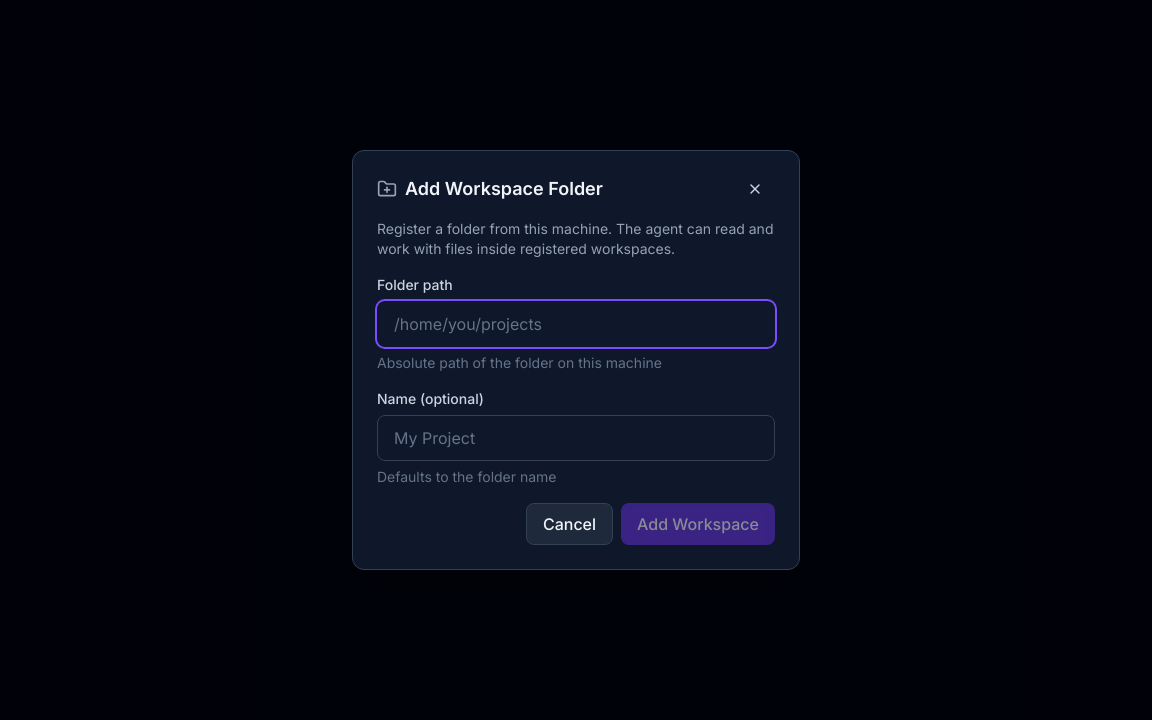
Test: WorkspaceDialog › shows backend validation errors
In the field with placeholder "/home/you/projects": (576, 324) x1=377 y1=301 x2=775 y2=347, type "/nope"
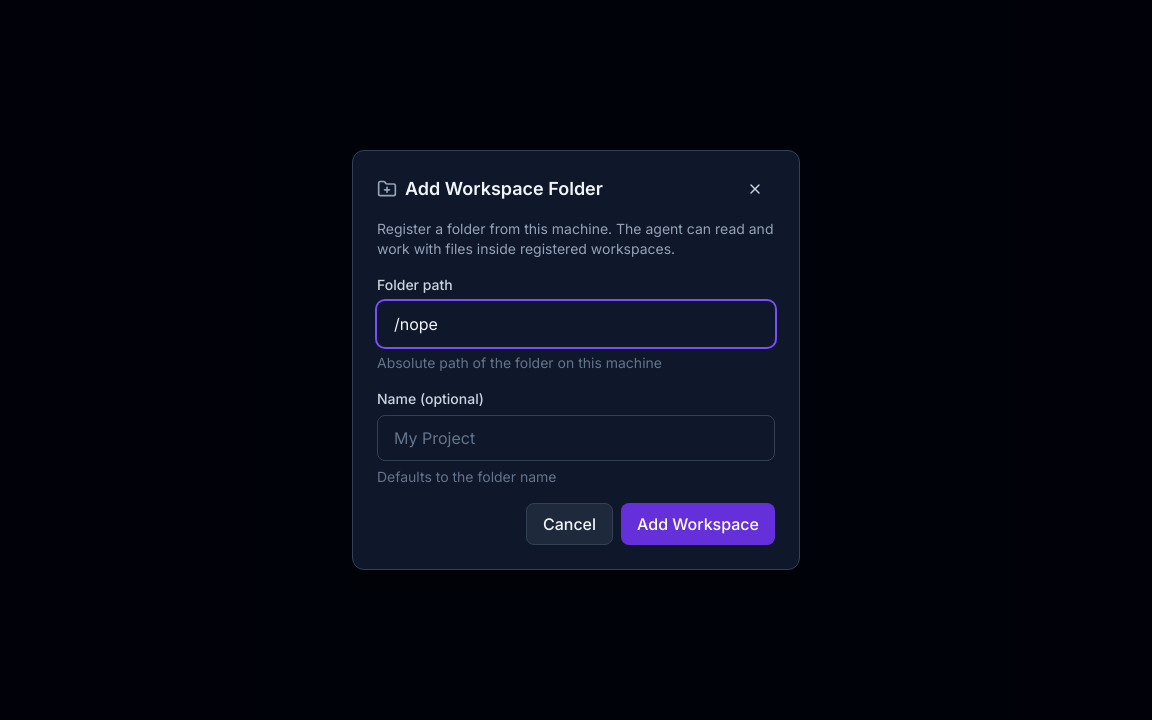
Click the button "Add Workspace": (698, 524) x1=621 y1=503 x2=775 y2=545
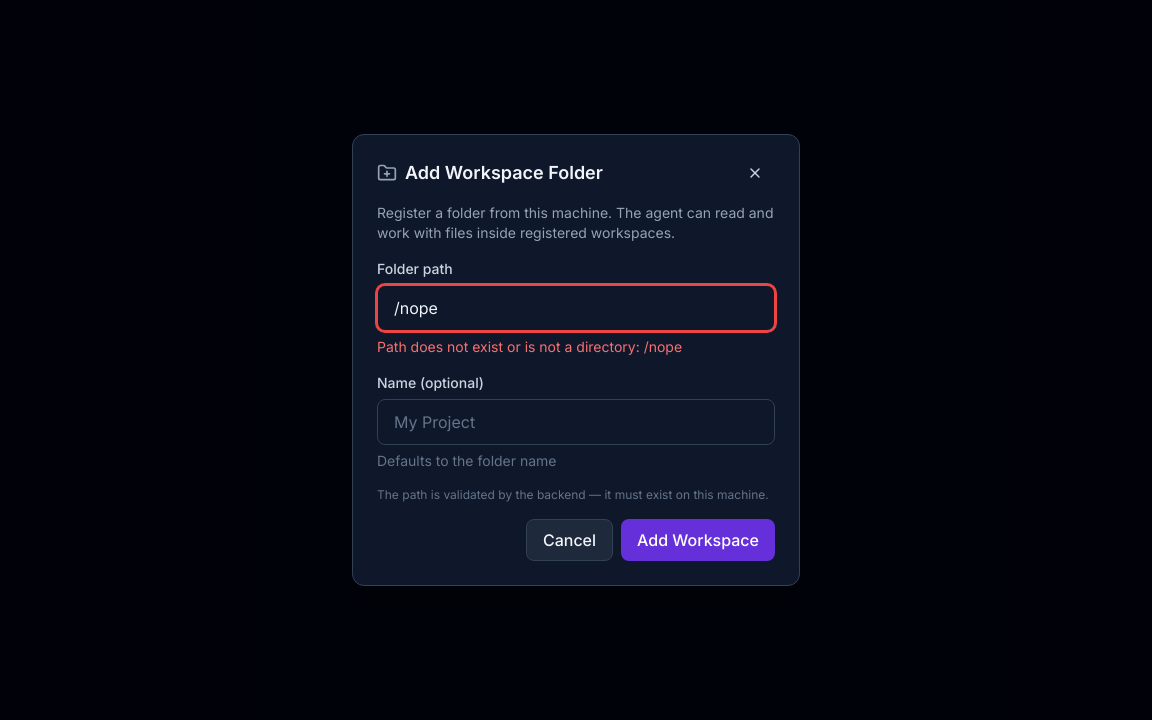
Now the text "Path does not exist or is not a directory: /nope" is shown, box x1=377 y1=338 x2=682 y2=355
